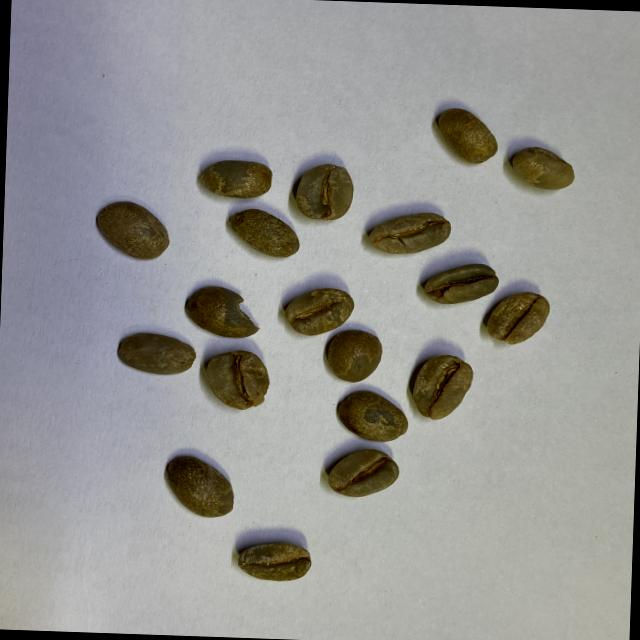bad: (184, 282, 262, 338), (203, 348, 270, 411), (369, 208, 452, 256), (295, 160, 355, 222), (422, 260, 500, 307)
good: (93, 198, 170, 260), (163, 454, 234, 519), (409, 352, 474, 422), (326, 446, 400, 499), (335, 389, 409, 442), (486, 288, 550, 346), (116, 331, 196, 376), (228, 208, 300, 258), (436, 106, 498, 164), (285, 286, 355, 337), (236, 540, 312, 582), (326, 328, 384, 383), (510, 144, 576, 191), (198, 159, 272, 200)
